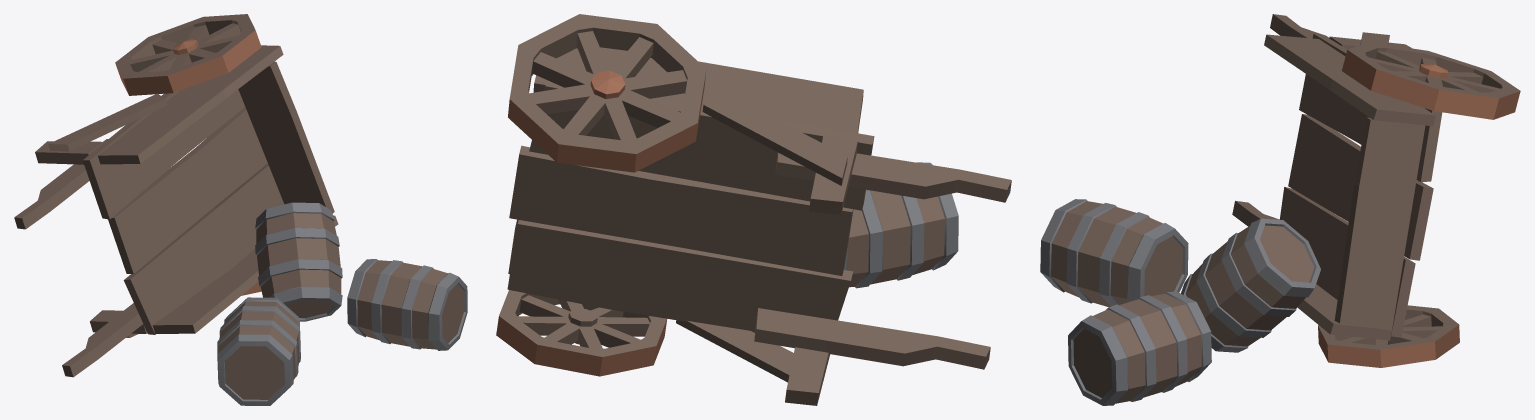
The model's file is helpingHand.fbx.
3 views of the same model, side by side, from view 1: azimuth 30°, elevation 25°; view 2: azimuth 150°, elevation 25°; view 3: azimuth 270°, elevation 25° (orthographic). The views are drawn at different scales.
Parts seen in each view (by area): view 1: helpingHand; view 2: helpingHand; view 3: helpingHand.
Part boxes in pixels (x1,y1,x2,y2): helpingHand: (14, 14, 467, 405); helpingHand: (496, 14, 1011, 405); helpingHand: (1040, 14, 1520, 405).
Size of the model in its own units: 2.97 by 1.91 by 2.76.
